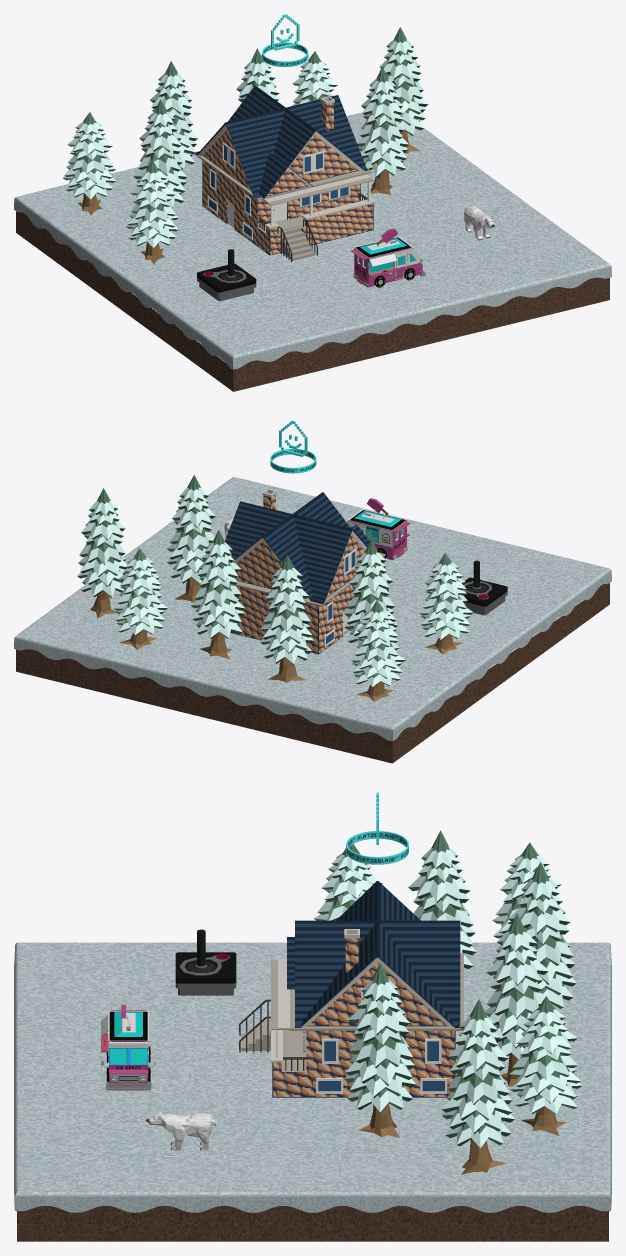
3 renders of one model, top to bottom at view 1: azimuth 30°, elevation 25°; view 2: azimuth 150°, elevation 25°; view 3: azimuth 270°, elevation 25°, orthographic. The views are drawn at different scales.
Visible parts, largest first — view 1: Cube.003, Cube.430, VEHICLES_ICE_CREAM_TRUCK, OBJRANDOM_JOYSTICK, TYPE_PREMIUM, ANIMAL_OSO_POLAR; view 2: Cube.003, Cube.430, VEHICLES_ICE_CREAM_TRUCK, OBJRANDOM_JOYSTICK, TYPE_PREMIUM; view 3: Cube.003, Cube.430, VEHICLES_ICE_CREAM_TRUCK, OBJRANDOM_JOYSTICK, ANIMAL_OSO_POLAR, TYPE_PREMIUM.
Part boxes in pixels (x1,y1,x2,y2): Cube.003: (14, 27, 611, 391); Cube.430: (194, 85, 376, 261); VEHICLES_ICE_CREAM_TRUCK: (350, 228, 425, 287); OBJRANDOM_JOYSTICK: (197, 249, 256, 301); TYPE_PREMIUM: (262, 14, 308, 66); ANIMAL_OSO_POLAR: (464, 205, 494, 240); Cube.003: (14, 475, 611, 763); Cube.430: (225, 489, 388, 654); VEHICLES_ICE_CREAM_TRUCK: (347, 498, 410, 559); OBJRANDOM_JOYSTICK: (463, 560, 507, 615); TYPE_PREMIUM: (270, 420, 316, 473); Cube.003: (14, 830, 611, 1241); Cube.430: (239, 881, 463, 1097); VEHICLES_ICE_CREAM_TRUCK: (101, 1004, 156, 1090); OBJRANDOM_JOYSTICK: (175, 929, 236, 995); ANIMAL_OSO_POLAR: (146, 1111, 216, 1150); TYPE_PREMIUM: (346, 792, 408, 864).
Size of the model in its own units: 4040 by 2619 by 4040.
Materials: 46 (5 with a texture image).
